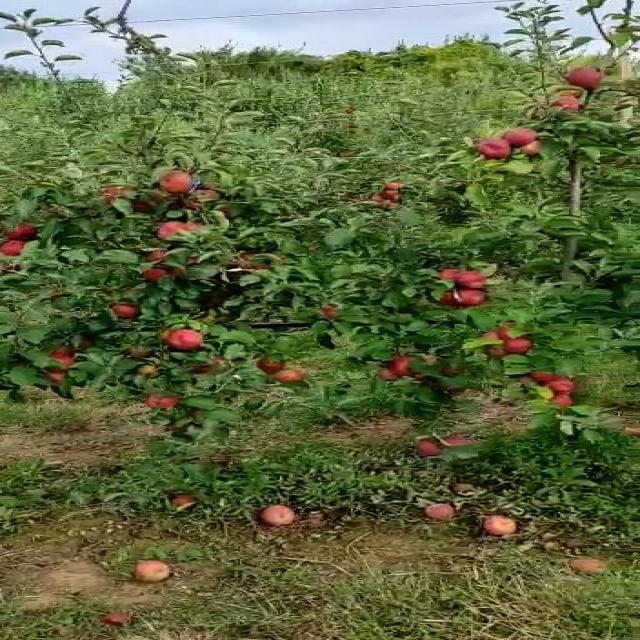100-_ripeness: (558, 67, 609, 91), (473, 136, 518, 159), (154, 329, 206, 348), (149, 223, 195, 244), (445, 271, 500, 288), (156, 169, 191, 195), (538, 378, 580, 399), (505, 126, 542, 146), (262, 367, 305, 384), (2, 224, 42, 241), (33, 356, 78, 371), (389, 360, 431, 376), (140, 395, 184, 410), (507, 337, 535, 357), (112, 305, 144, 322), (451, 289, 487, 304), (549, 93, 576, 112), (2, 240, 29, 257), (476, 331, 504, 343), (140, 267, 162, 281)
